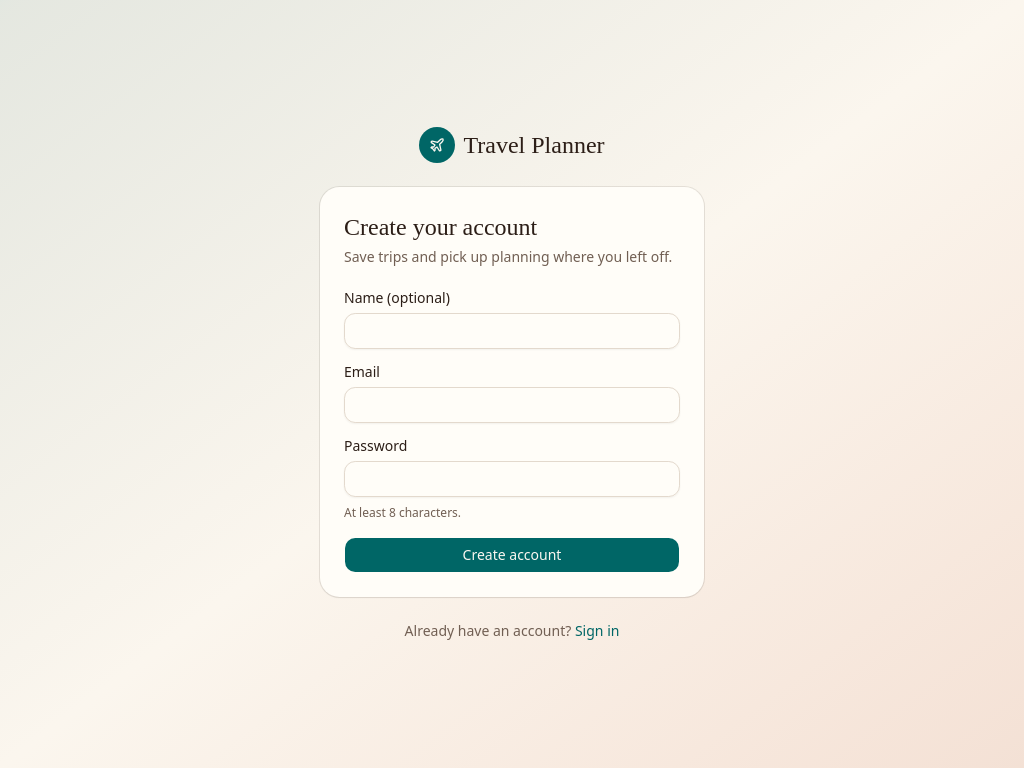
Test: RegisterPage › shows a conflict when the email is taken
The width and height of the screenshot is (1024, 768).
Type "Ada" into the field labelled "Name (optional)" at (512, 331), box [344,313,680,349]
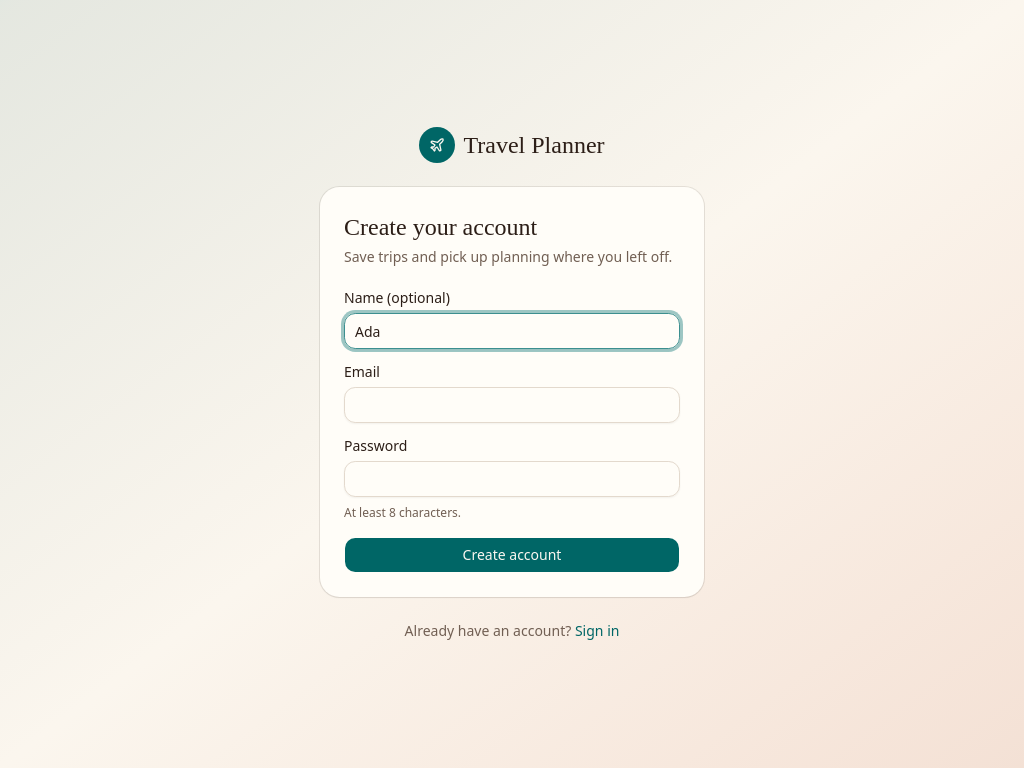
Type "ada@example.com" into the field labelled "Email" at (512, 405), box [344,387,680,423]
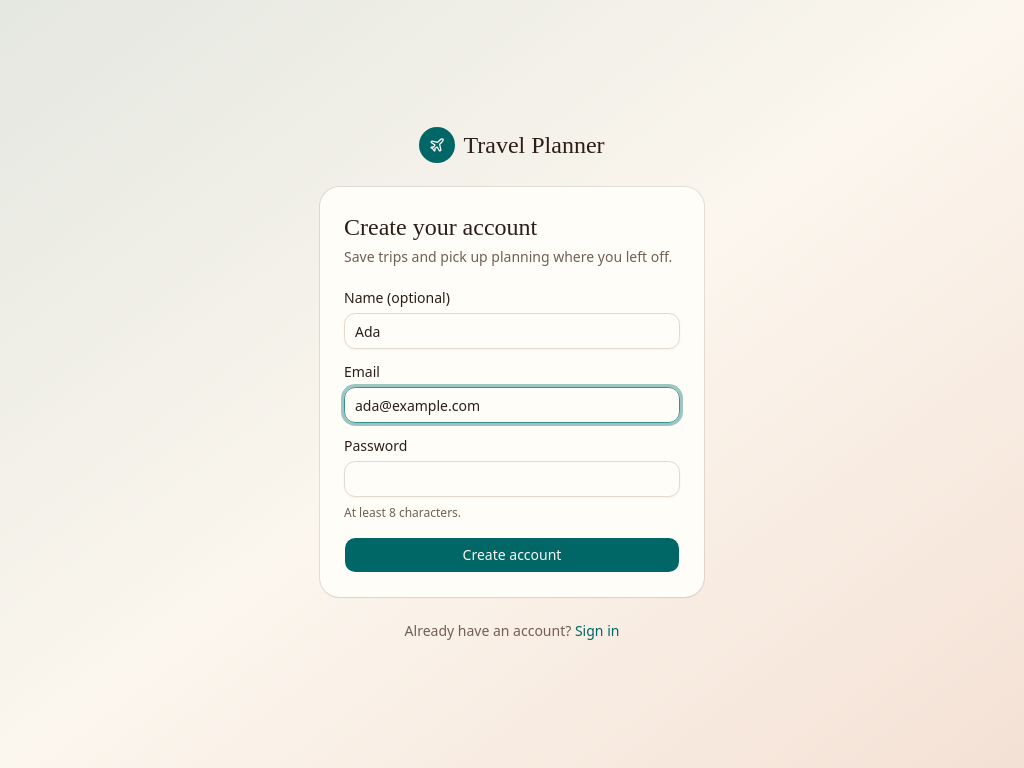
Type "correct horse battery" into the password field labelled "Password" at (512, 479), box [344,461,680,497]
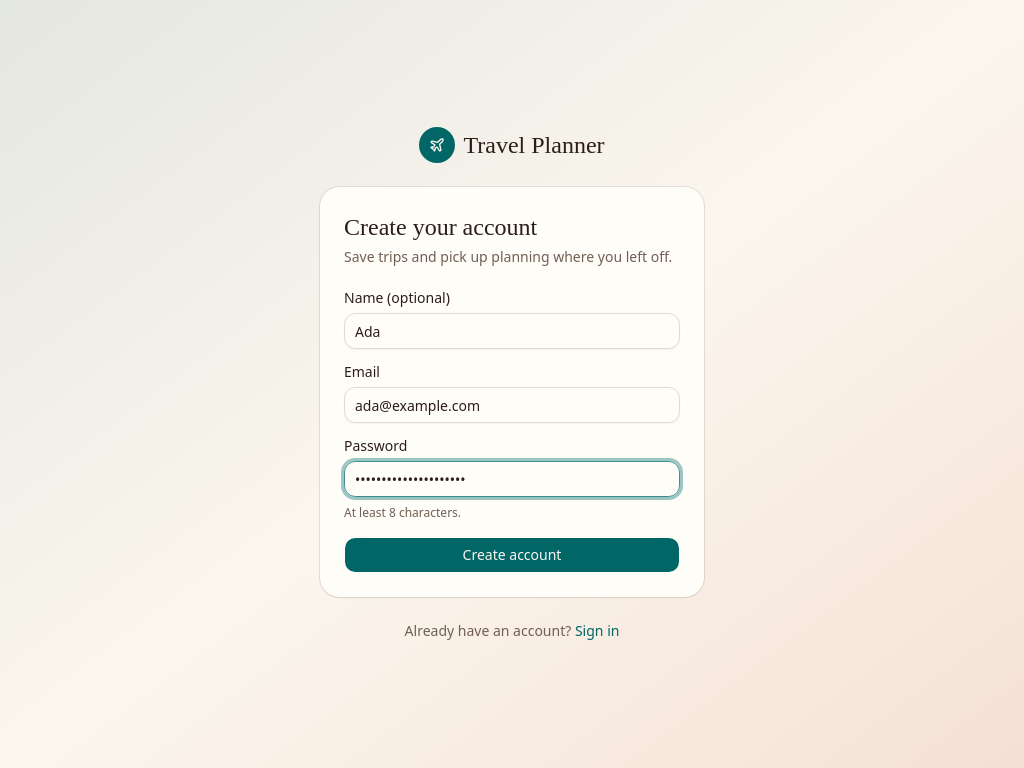
Click the button "Create account" at (512, 555), box [344,537,680,573]
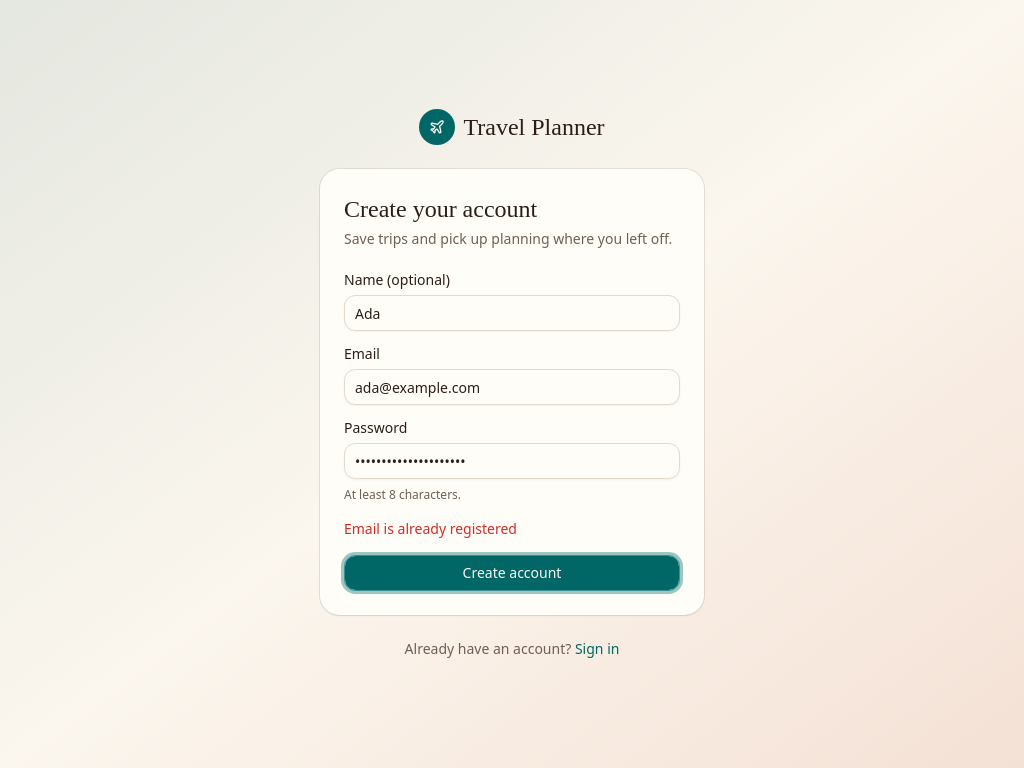
expect the message reads "Email is already registered": met, box [344,519,517,538]
